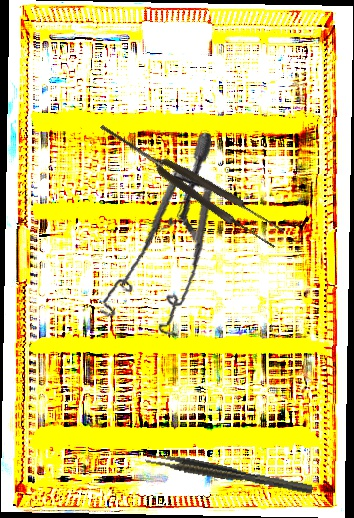Speculum: (80, 131, 235, 346)
Tissue Forceps: (94, 113, 287, 252), (144, 449, 314, 500)
